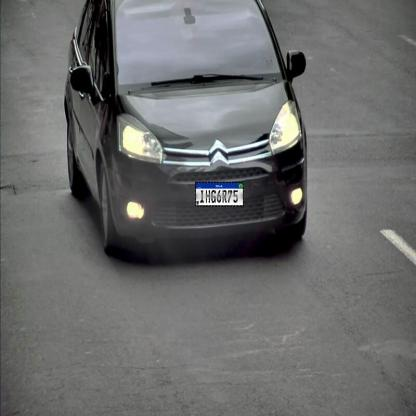PlacaM: (195, 182, 244, 206)
